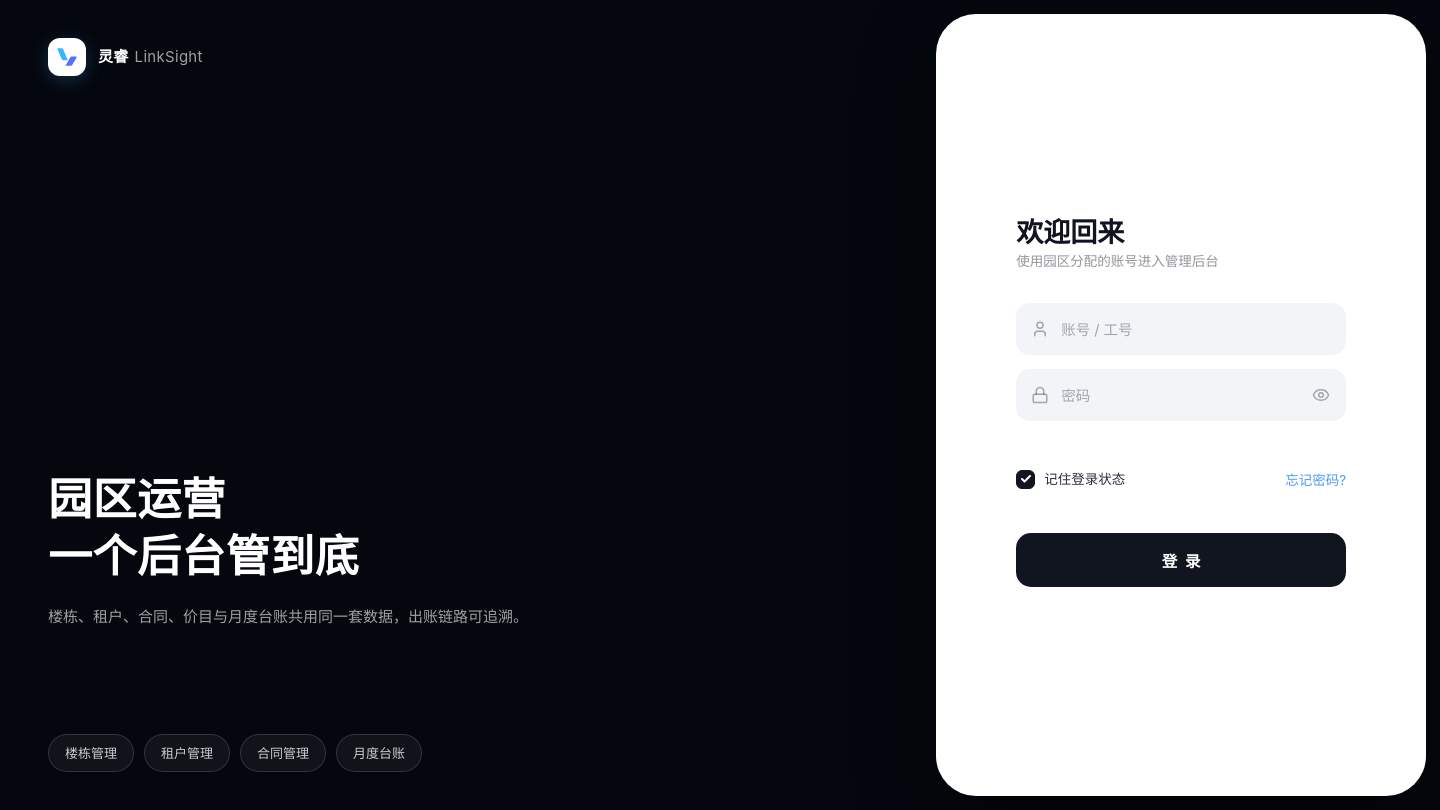
Test: C4-02 登录 → 导航两个错误域 › 登录接口失败仍报密码错误,不走导航
Type "zhang" into the field with placeholder "账号 / 工号" at (1181, 329), box [1016,303,1346,355]
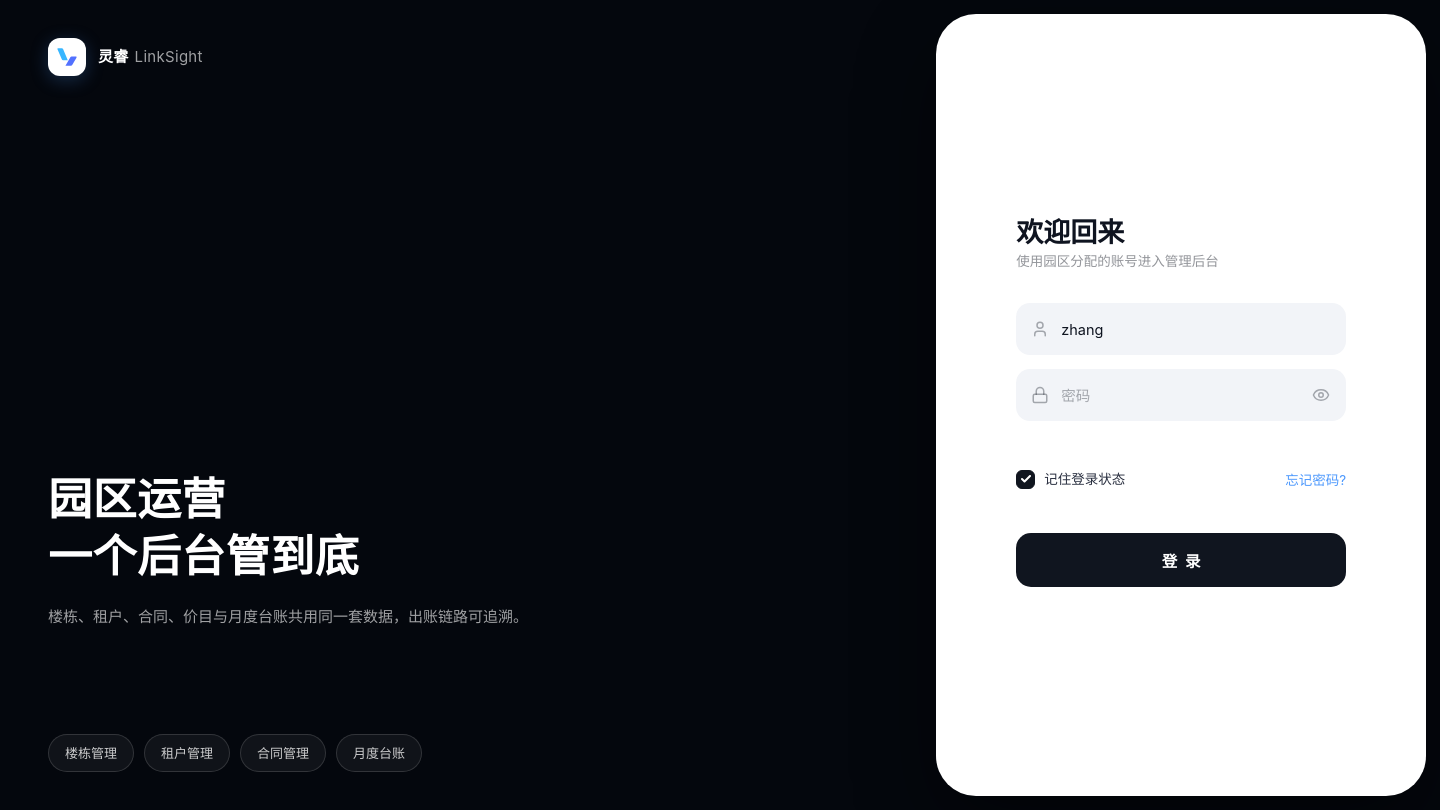
Type "pw12345678" into the password field with placeholder "密码" at (1181, 395), box [1016,369,1346,421]
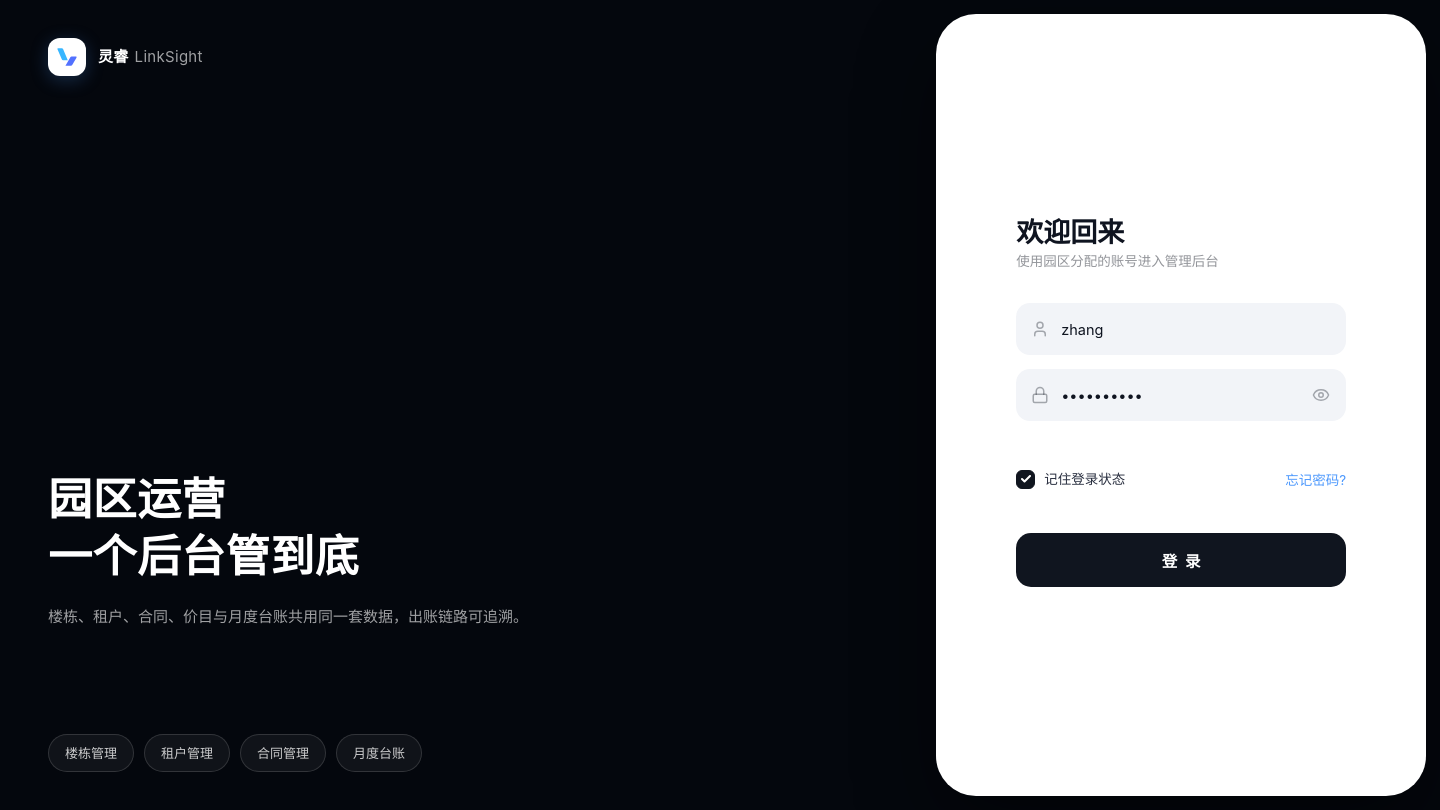
Submit the form, box [1016,223,1346,587]
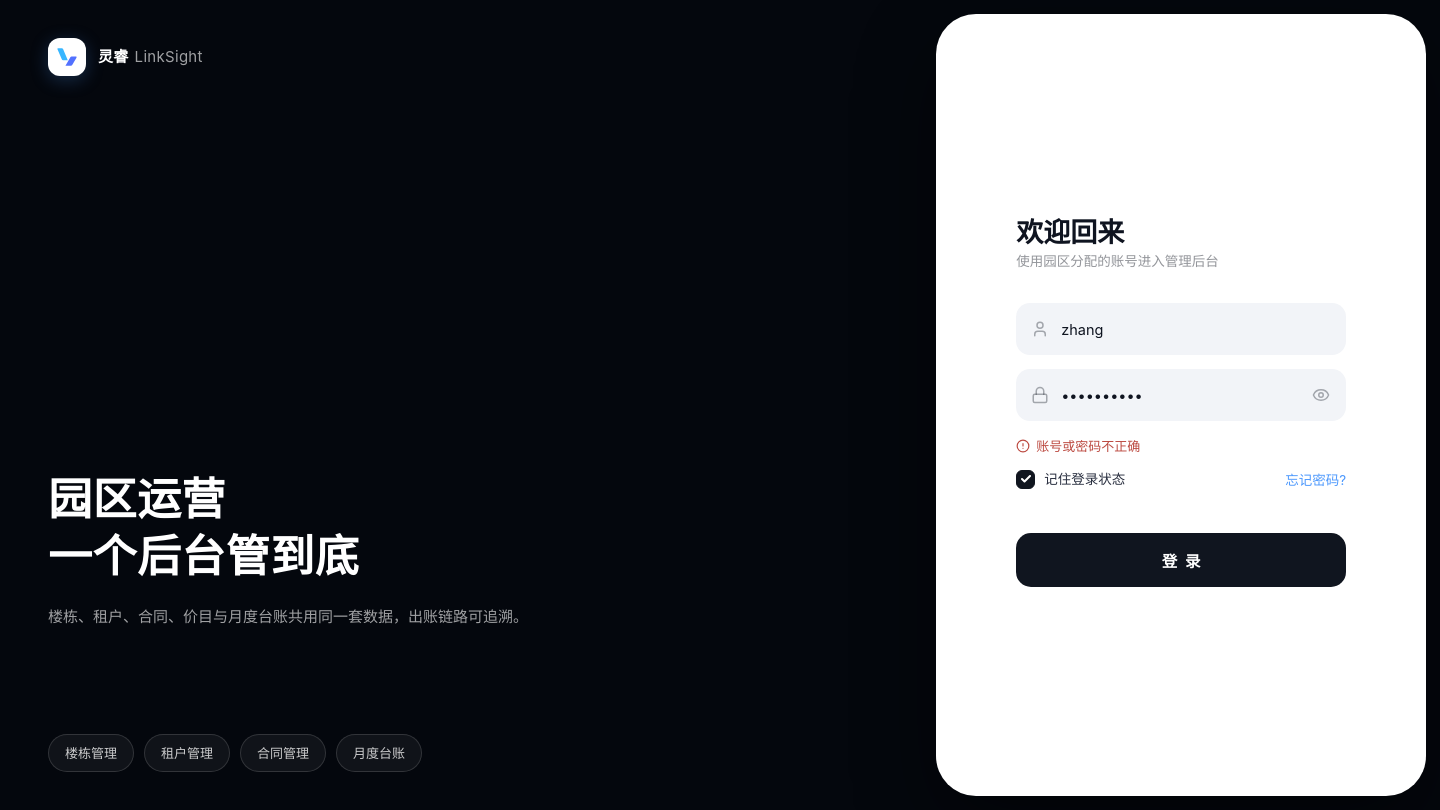
Expected: the element with class "lg-err" reads "账号或密码不正确", [1036,438,1140,454]
